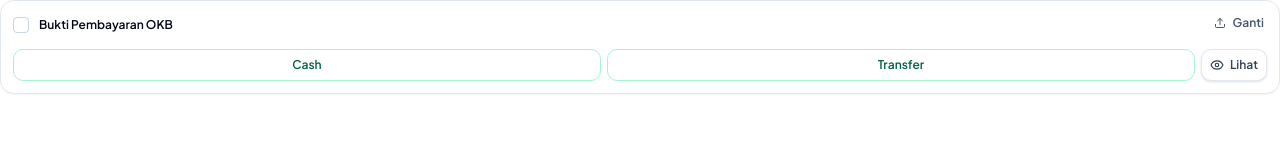
Scenario: DocumentReviewCard › Bukti Pembayaran › goes back and says so when saving fails
Click the button "Cash" at (307, 65), box [13,49,601,81]
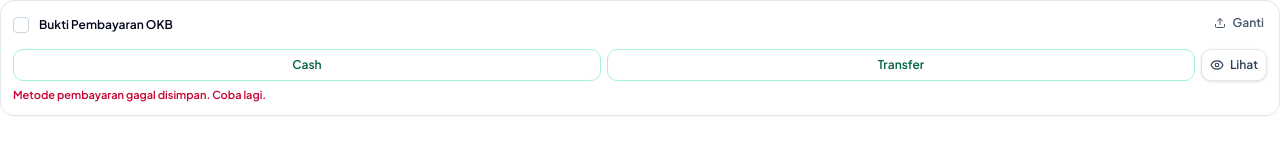
Expected: the text "Metode pembayaran gagal disimpan. Coba lagi." is shown, [13,88,266,101]
